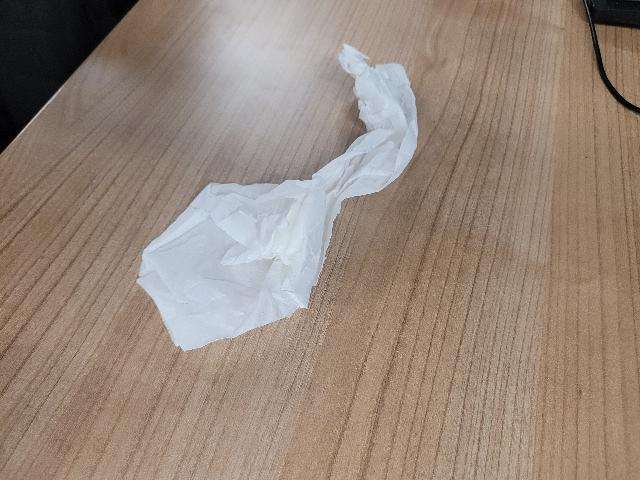Kagit: (138, 184, 328, 350), (326, 40, 424, 196)
